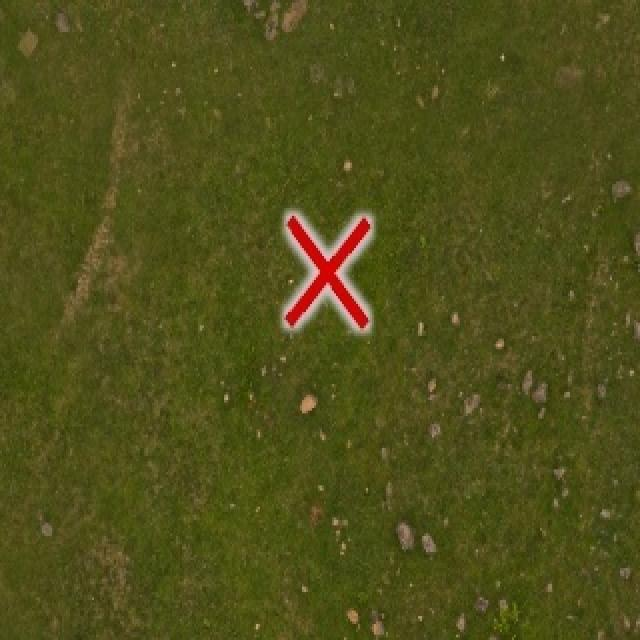x_marker: (285, 215, 369, 326)
